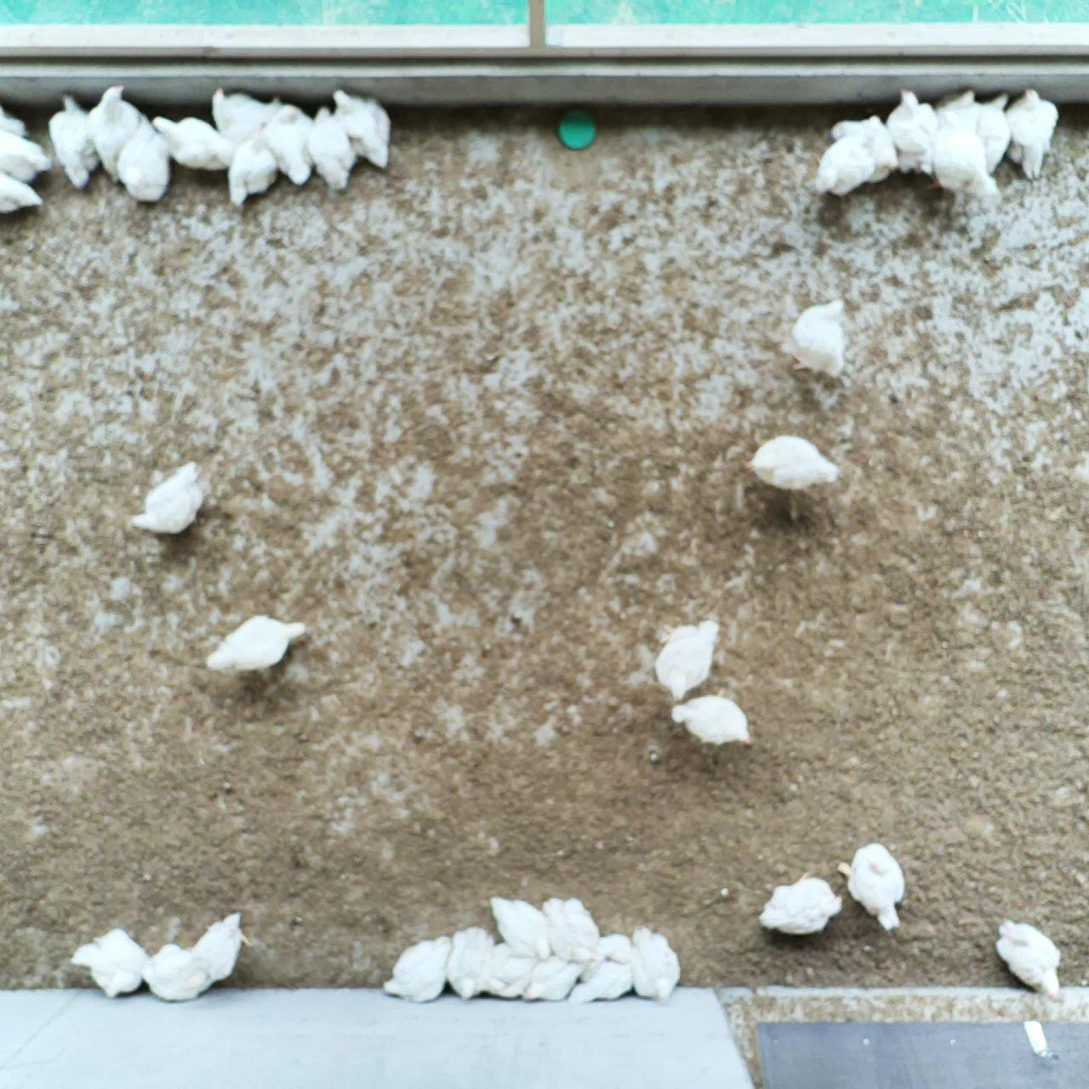chicken: (834, 838, 917, 936), (201, 609, 310, 678), (991, 908, 1067, 1003), (926, 106, 999, 204), (132, 457, 216, 539), (323, 88, 401, 173), (740, 431, 842, 496), (65, 925, 150, 1003), (809, 115, 881, 201), (997, 87, 1061, 181), (44, 92, 106, 189), (647, 614, 717, 699), (784, 293, 851, 380), (760, 869, 841, 936), (535, 881, 598, 966), (87, 80, 137, 184), (305, 106, 362, 197), (834, 110, 904, 184), (883, 88, 942, 174), (145, 115, 233, 172), (261, 101, 320, 185), (665, 689, 760, 741), (139, 939, 216, 1002), (394, 930, 462, 1001), (188, 909, 254, 980), (115, 114, 165, 207), (208, 85, 284, 146), (625, 922, 680, 1004), (474, 941, 542, 1007), (225, 123, 275, 210), (487, 893, 552, 956), (564, 957, 637, 1009), (969, 89, 1010, 179), (0, 122, 55, 189), (521, 951, 583, 1008), (928, 84, 989, 132), (450, 923, 488, 999), (0, 167, 46, 216), (589, 925, 641, 968), (0, 95, 28, 137)
